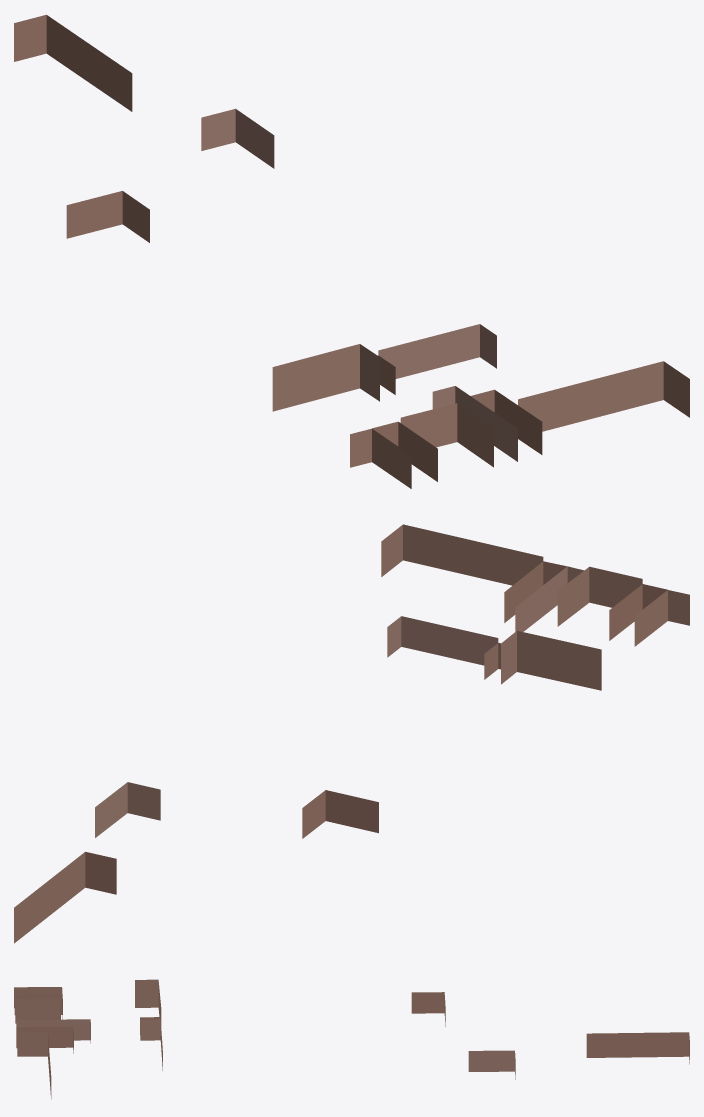
The model's file is c_1632_17826_buildings_residential.glb.
The picture shows the model from 3 angles, top to bottom: view 1: azimuth 30°, elevation 25°; view 2: azimuth 150°, elevation 25°; view 3: azimuth 270°, elevation 25°; orthographic projection. The views are drawn at different scales.
Parts seen in each view (by area): view 1: geometry_0; view 2: geometry_0; view 3: geometry_0.
Part boxes in pixels (x1=…): geometry_0: x1=14, y1=14, x2=689, y2=488; geometry_0: x1=14, y1=524, x2=689, y2=943; geometry_0: x1=14, y1=979, x2=689, y2=1099.
Size of the model in its own units: 90.91 by 12.85 by 275.
